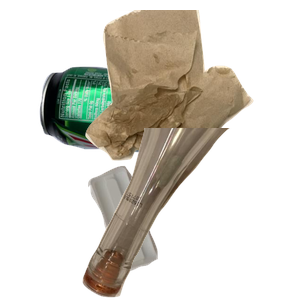glass: (80, 128, 300, 300)
metal: (37, 64, 245, 214)
plastic: (85, 163, 235, 300)
trash: (83, 10, 300, 163)
